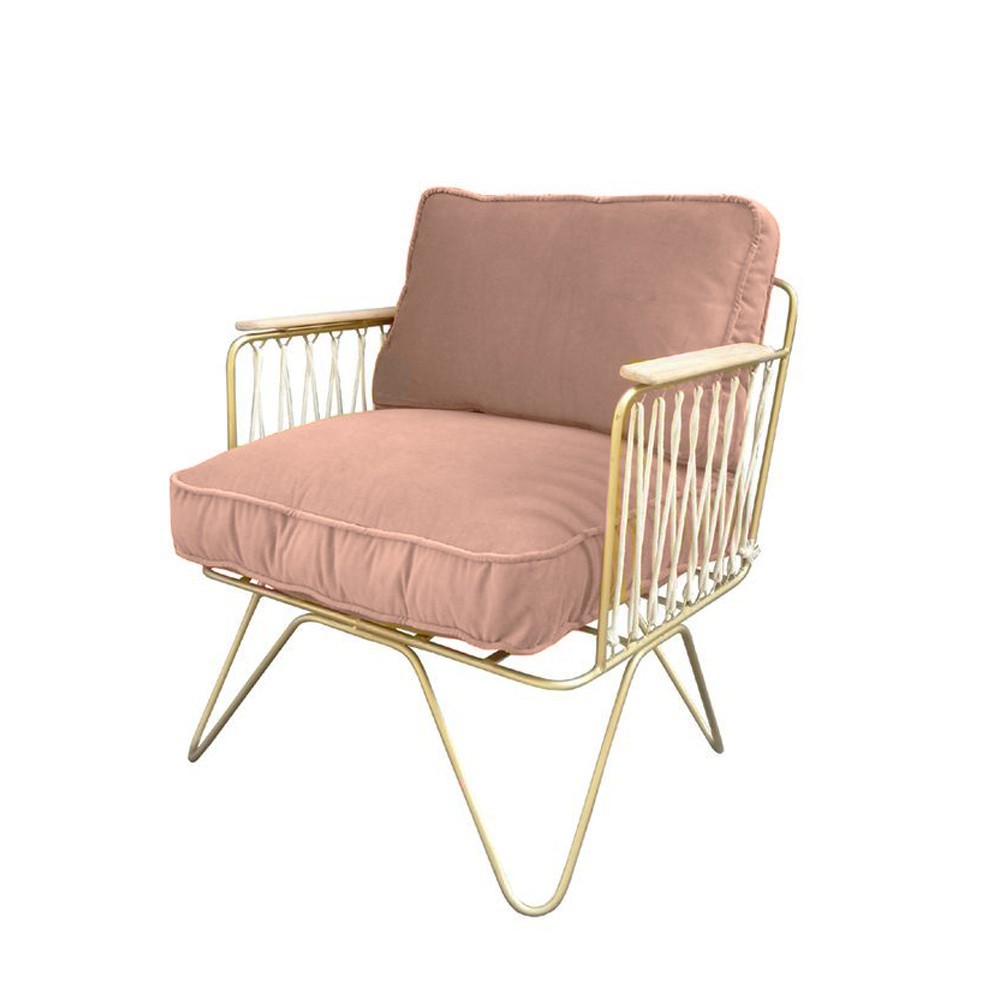chairs: (176, 188, 803, 925)
